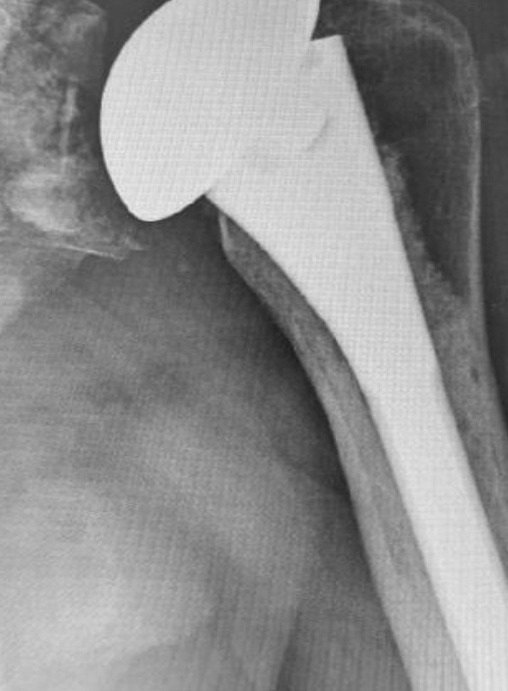Shoulder - Anotomical - Stryker: (82, 1, 407, 237)
